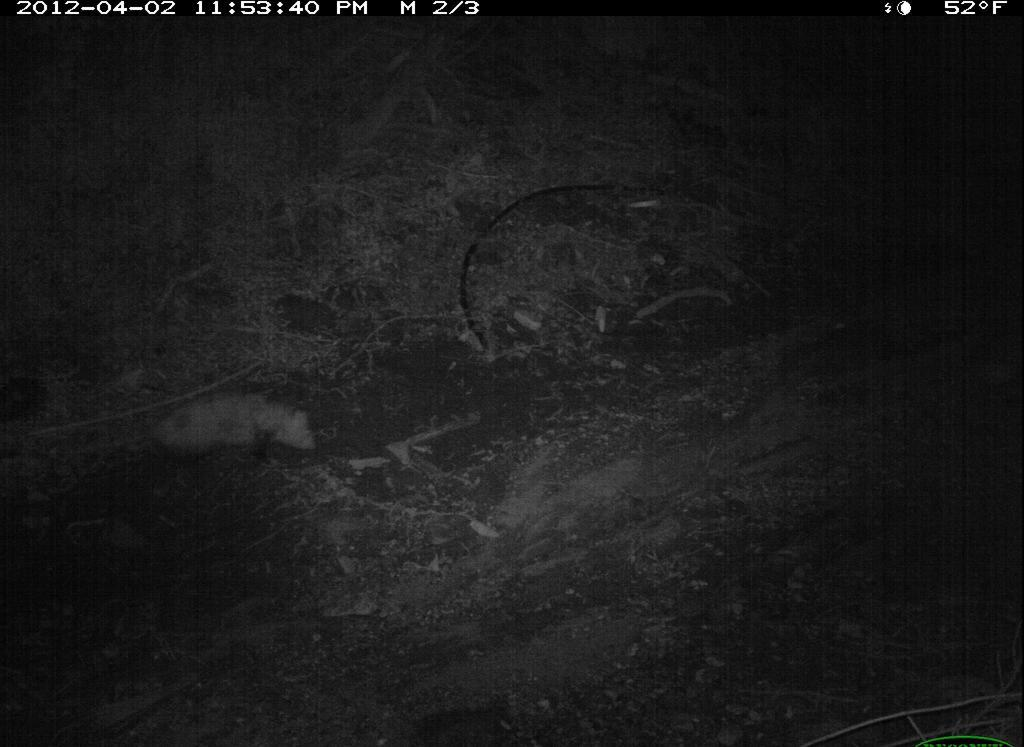opossum: (143, 377, 323, 478)
